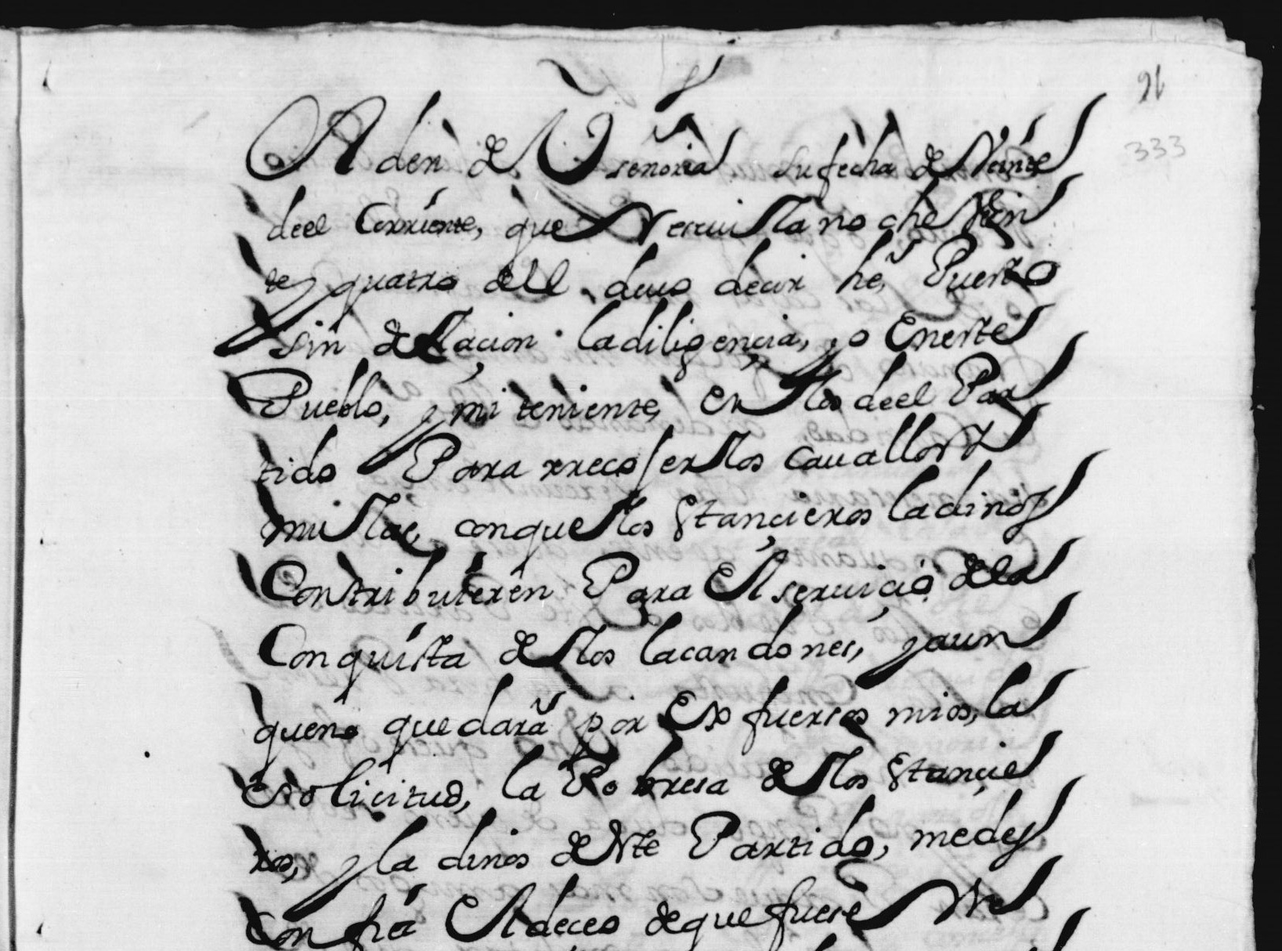lacandon: (640, 602, 856, 665)
